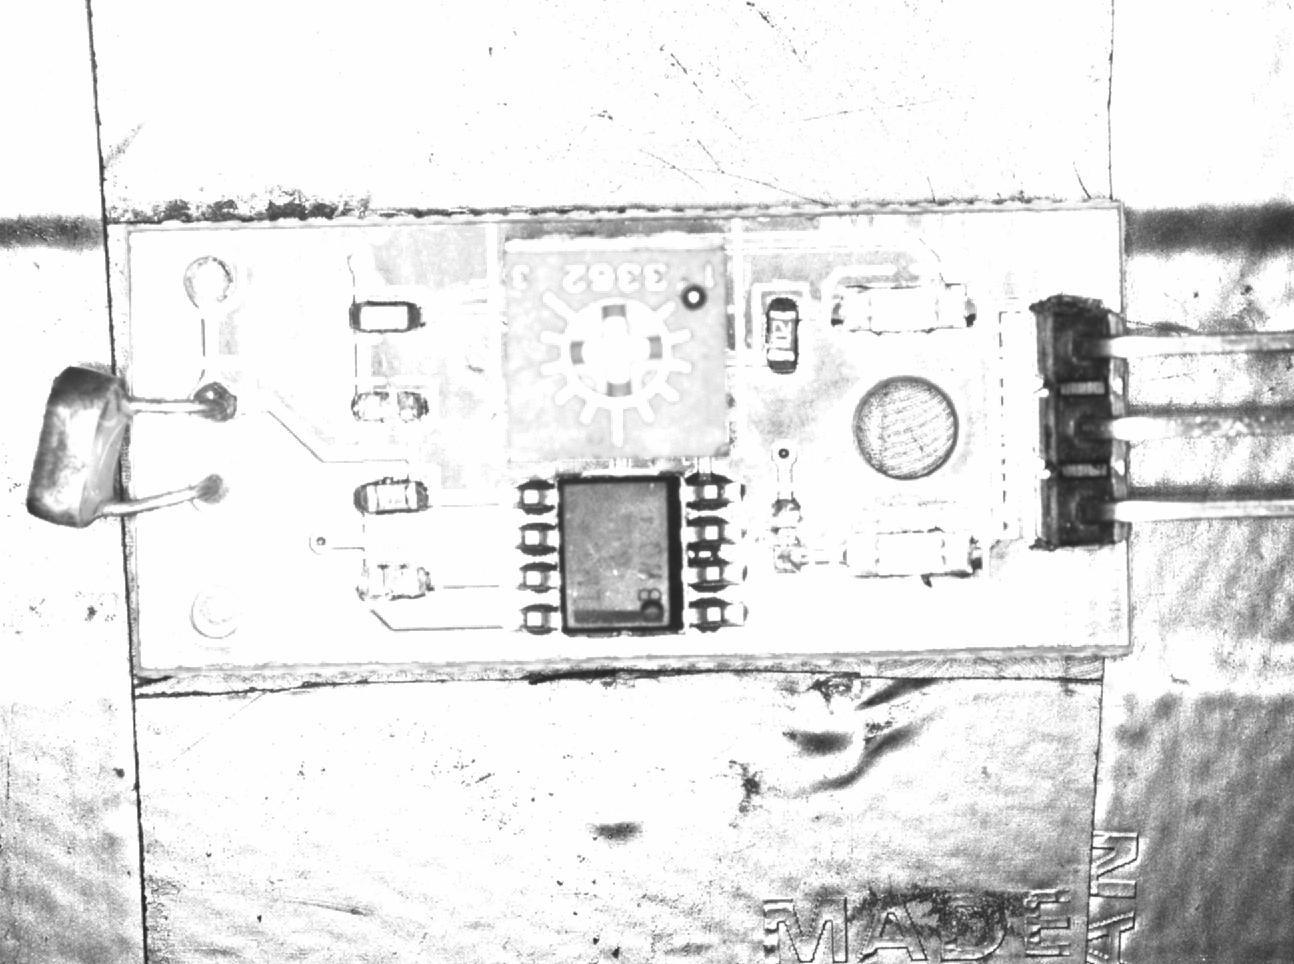miss: (333, 378, 440, 438), (338, 553, 436, 616), (759, 484, 813, 586)
ok: (750, 278, 813, 383), (333, 285, 438, 343), (333, 469, 443, 521)
